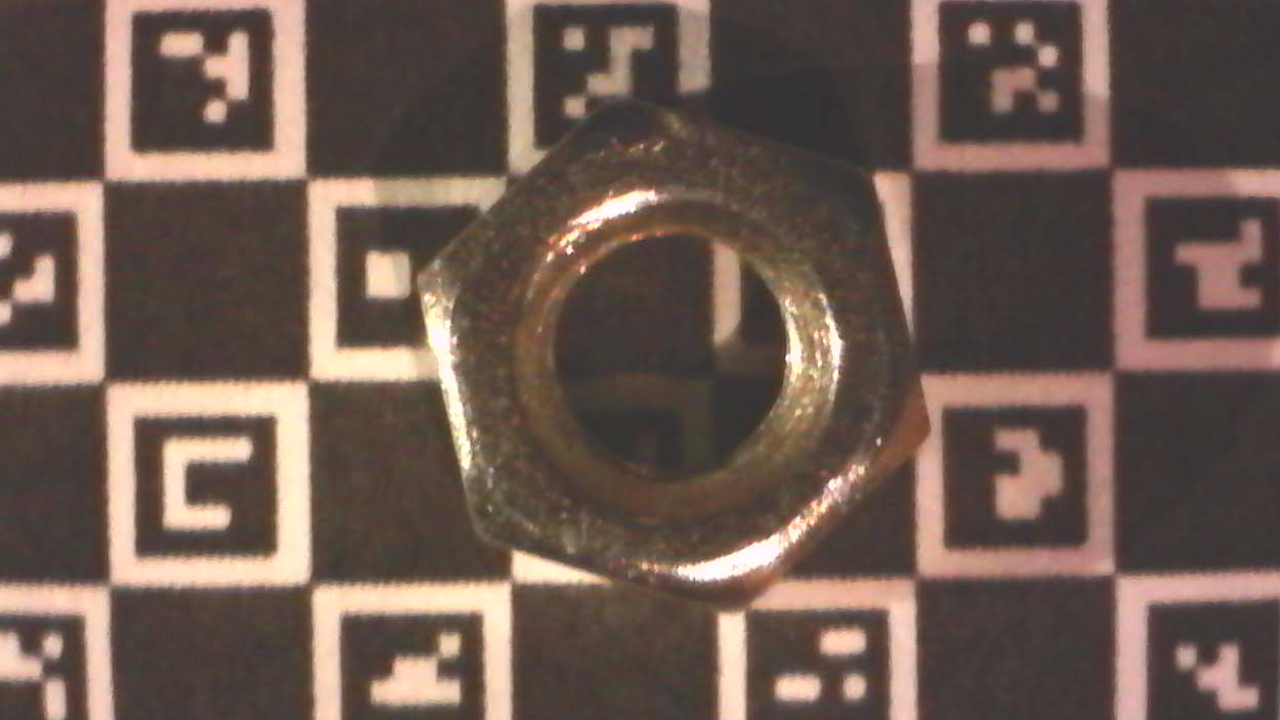Bolt: (416, 88, 937, 622)
